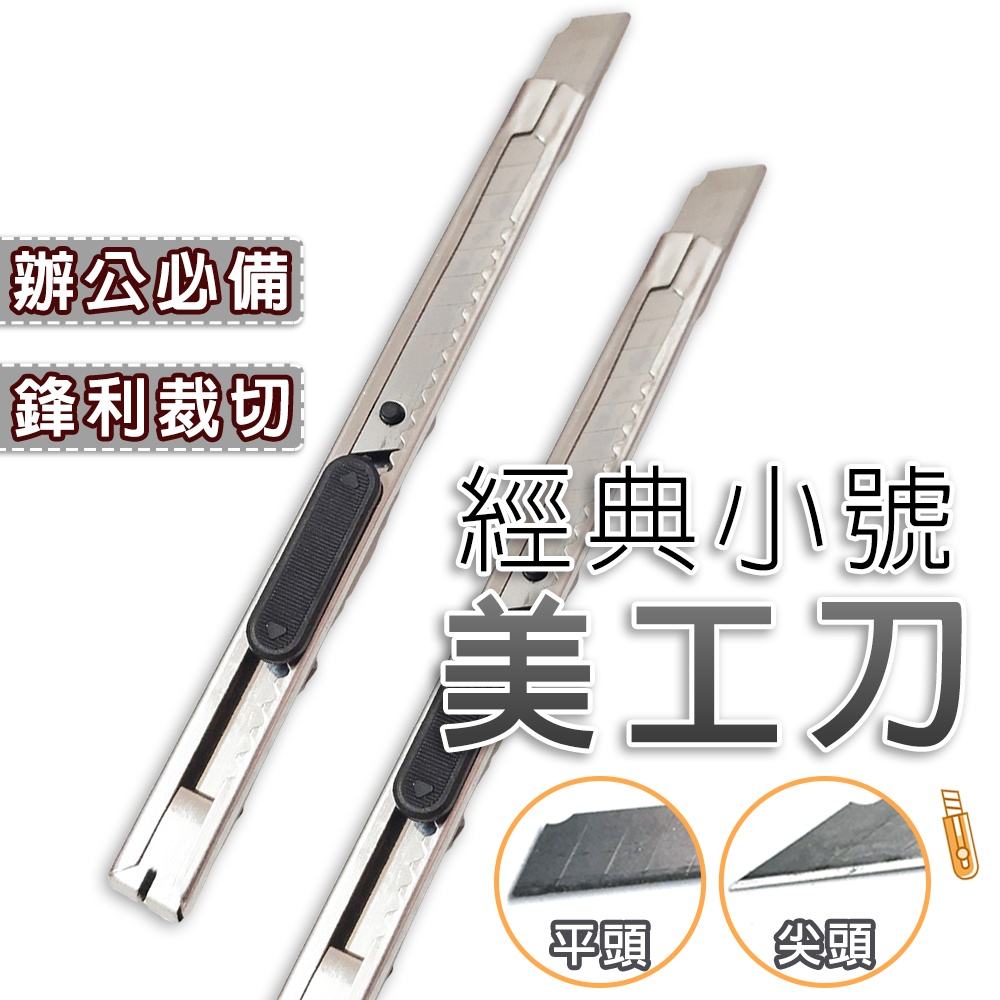cutter: (107, 7, 632, 925), (274, 161, 768, 999)
